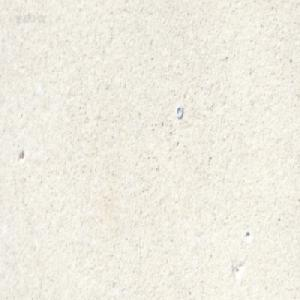Washer: (175, 104, 182, 118)
